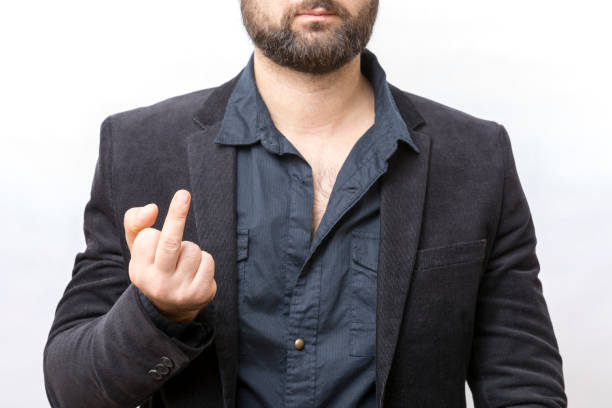insulting_gesture: (121, 188, 217, 309)
